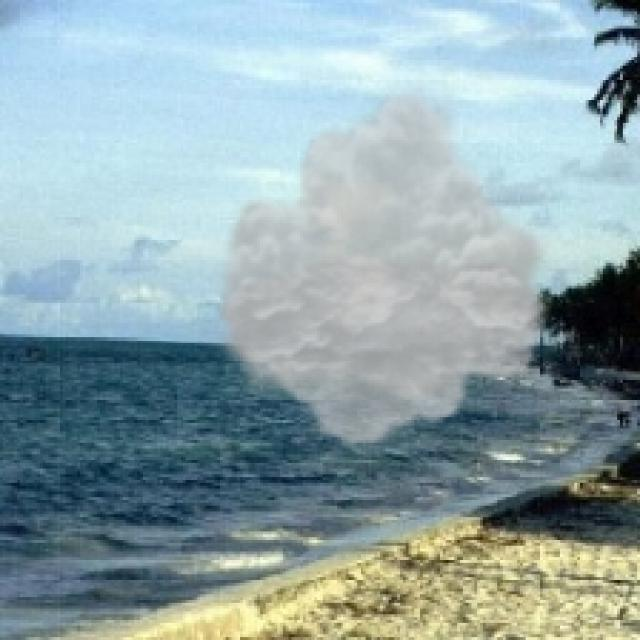Smoke: (208, 82, 558, 452)
